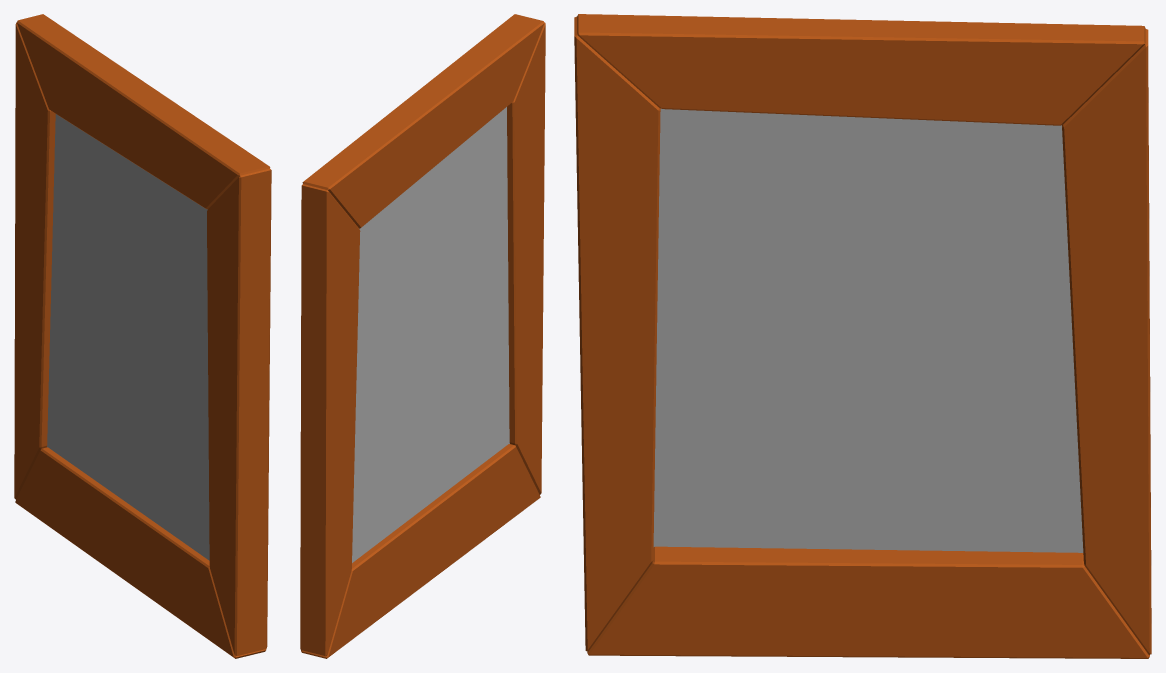
Rendered from Picture_04.glb.
The picture shows the model from 3 angles, left to right: view 1: azimuth 30°, elevation 25°; view 2: azimuth 150°, elevation 25°; view 3: azimuth 270°, elevation 25°; orthographic projection. The views are drawn at different scales.
Parts seen in each view (by area): view 1: Picture4; view 2: Picture4; view 3: Picture4.
Part boxes in pixels (x1=…): Picture4: x1=14, y1=14, x2=271, y2=658; Picture4: x1=300, y1=14, x2=545, y2=658; Picture4: x1=574, y1=14, x2=1151, y2=658.
Bounding box in the file's own units: 0.0477 × 0.6898 × 0.5734.
